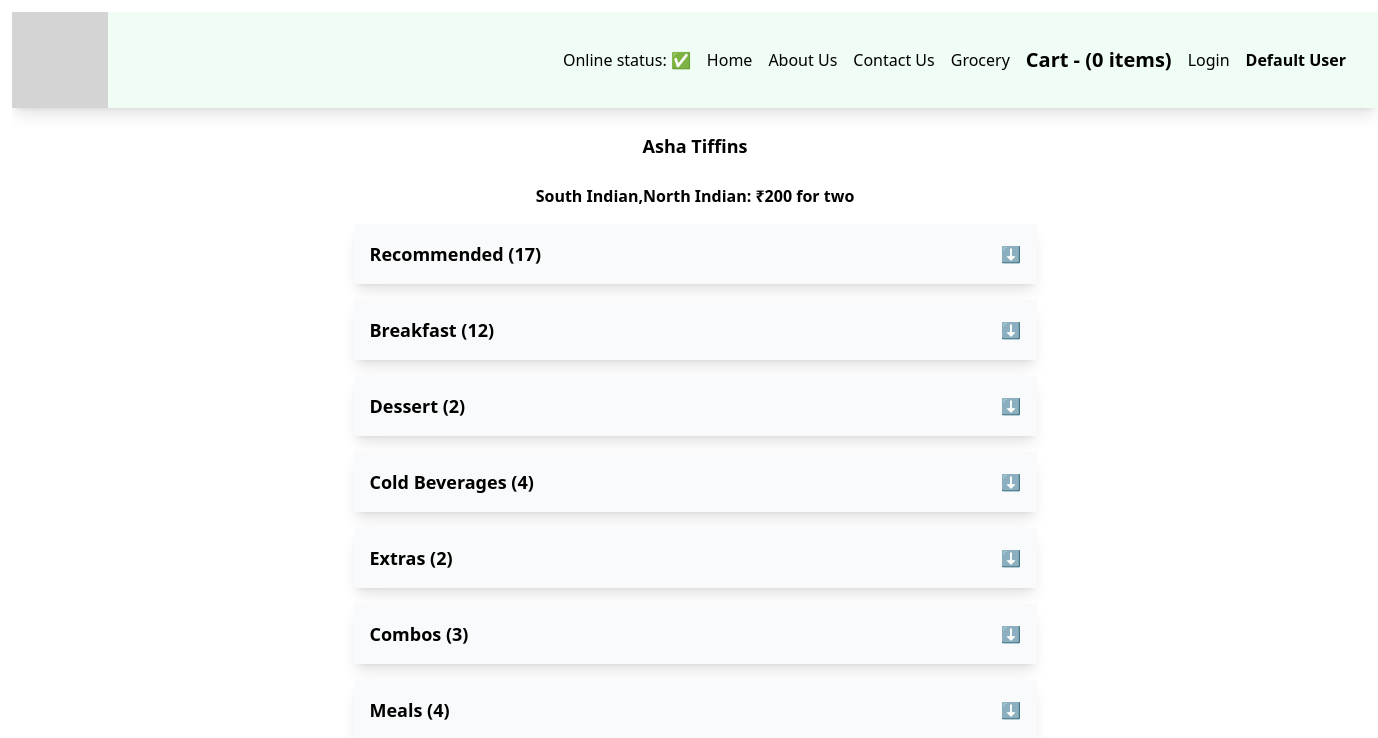
Should load restaurant menu component
Click the text "Breakfast (12)" at (432, 330), box [370,316,494,344]
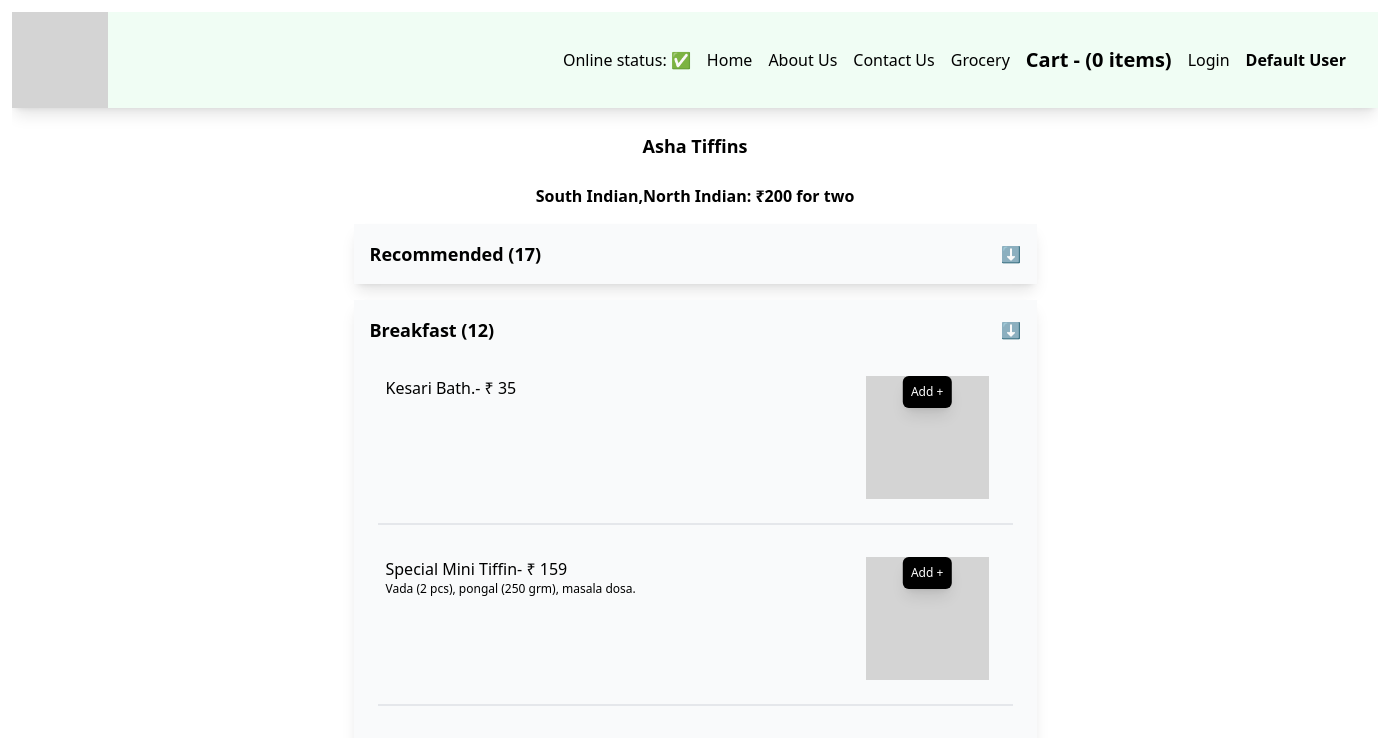
Expected: the link "Cart - (0 items)" is shown, [1026,46,1172,73]
Expected: the number of elements with test id "foodItems" is 12
